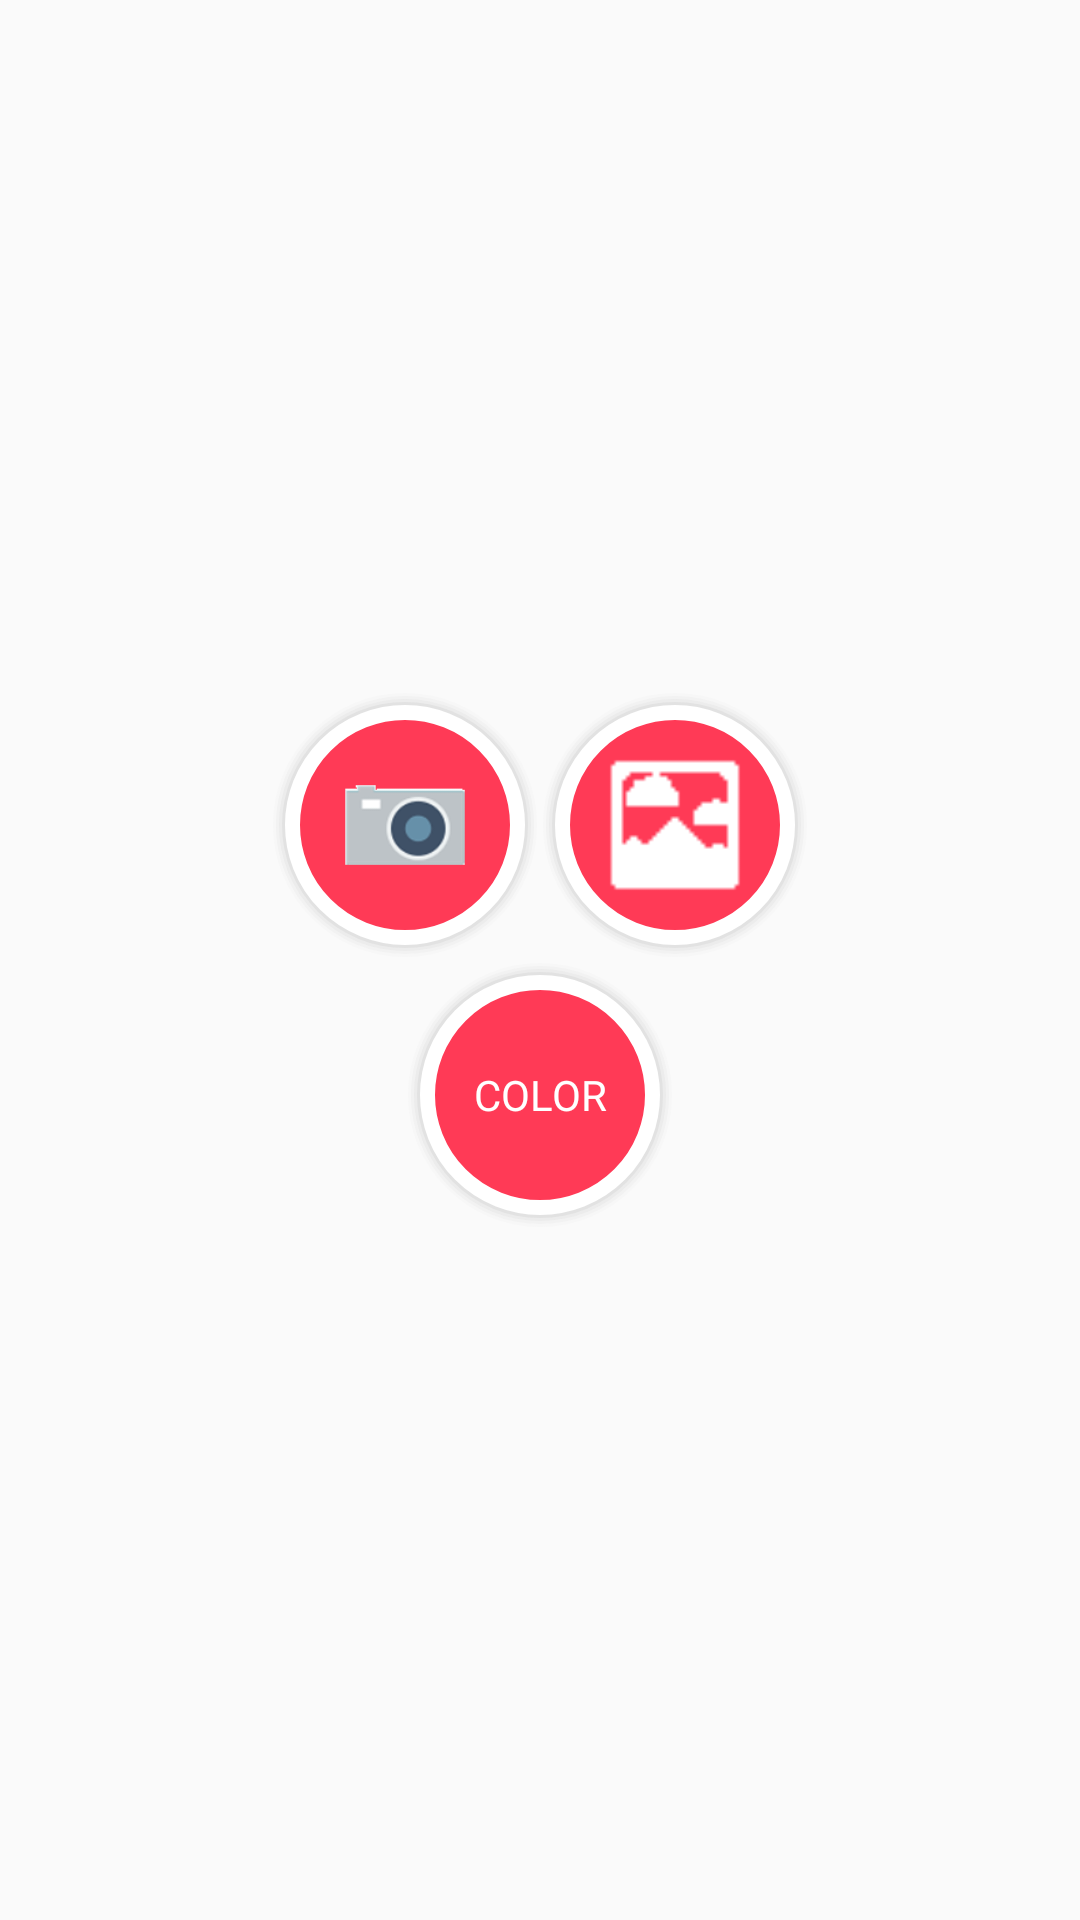

Named icons in this screenshot (1080w x 1920h) and their centers, (x,y):
camera: (405,825)
